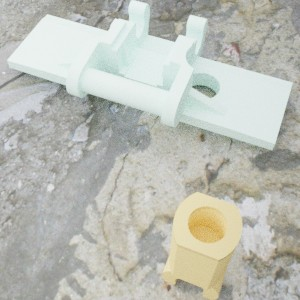lego: (7, 0, 292, 150), (161, 191, 242, 300)
